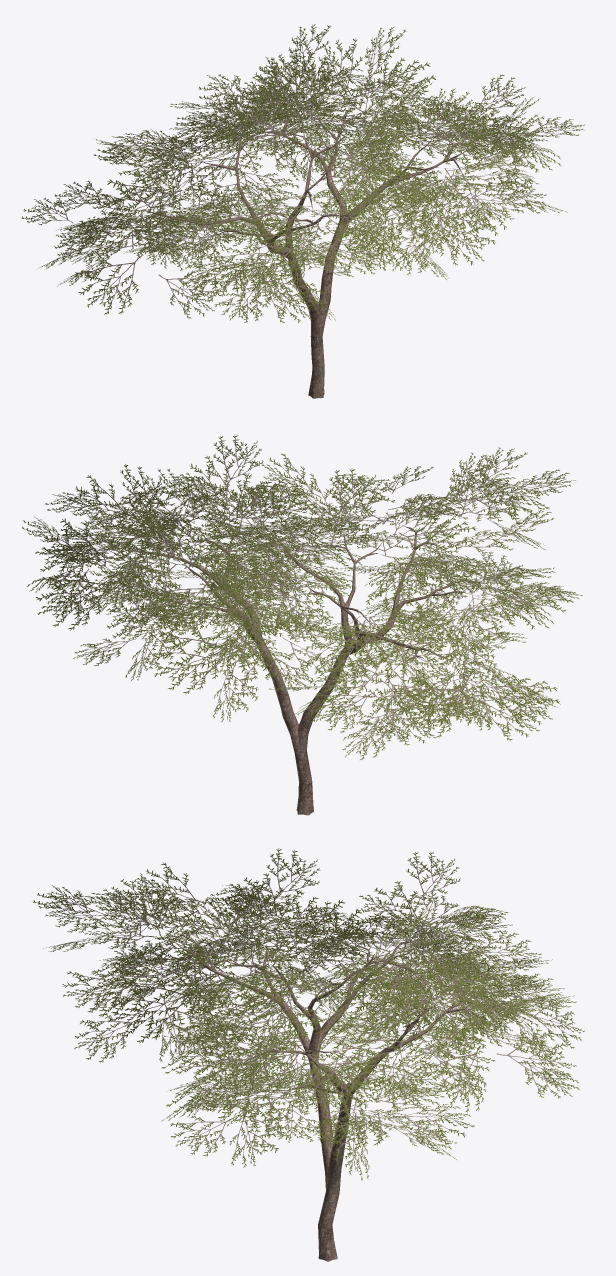
Rendered from acacia-far.glb.
The picture shows the model from 3 angles, top to bottom: view 1: azimuth 30°, elevation 25°; view 2: azimuth 150°, elevation 25°; view 3: azimuth 270°, elevation 25°; orthographic projection. The views are drawn at different scales.
Parts seen in each view (by area): view 1: acacia branch_1, bark05_0; view 2: acacia branch_1, bark05_0; view 3: acacia branch_1, bark05_0.
Boxes of the visible parts, left/top/right/bottom form: acacia branch_1: left=21, top=24, right=584, bottom=323; bark05_0: left=118, top=92, right=499, bottom=398; acacia branch_1: left=22, top=435, right=582, bottom=760; bark05_0: left=108, top=504, right=483, bottom=815; acacia branch_1: left=32, top=848, right=584, bottom=1180; bark05_0: left=146, top=907, right=494, bottom=1261.
Bounding box in the file's own units: 12.8 × 6.91 × 10.39.
2 materials, 2 textured.
